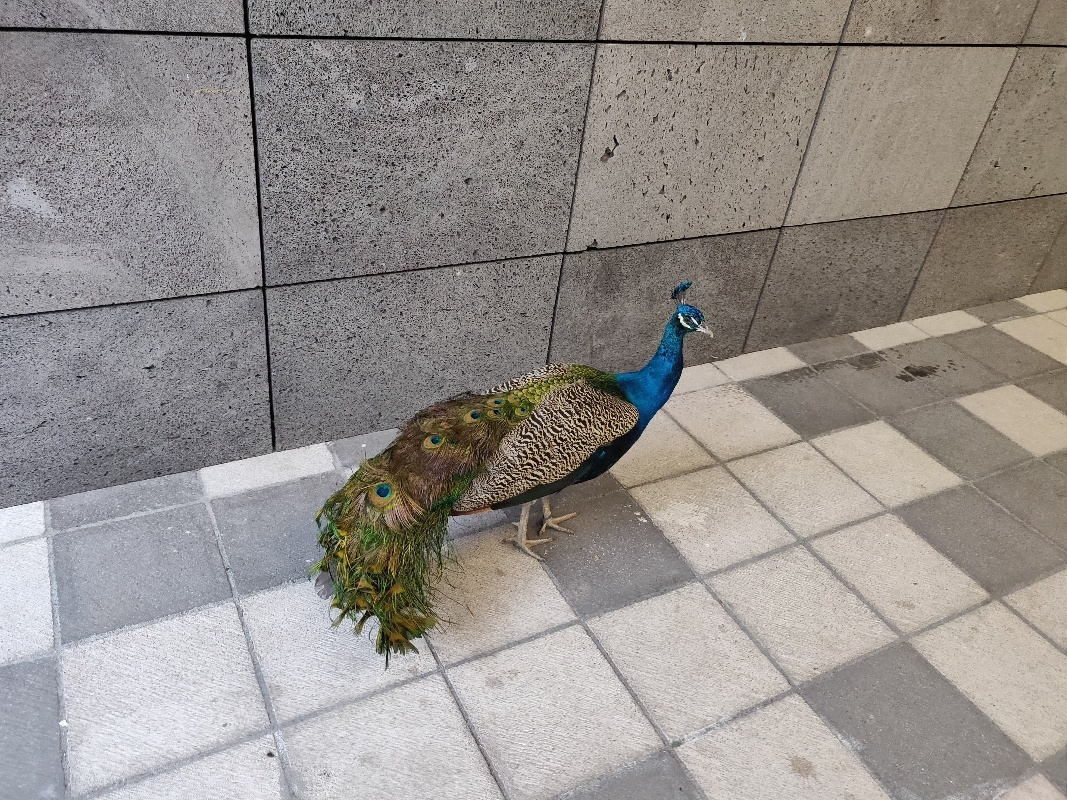pavoreal: (468, 303, 715, 491)
